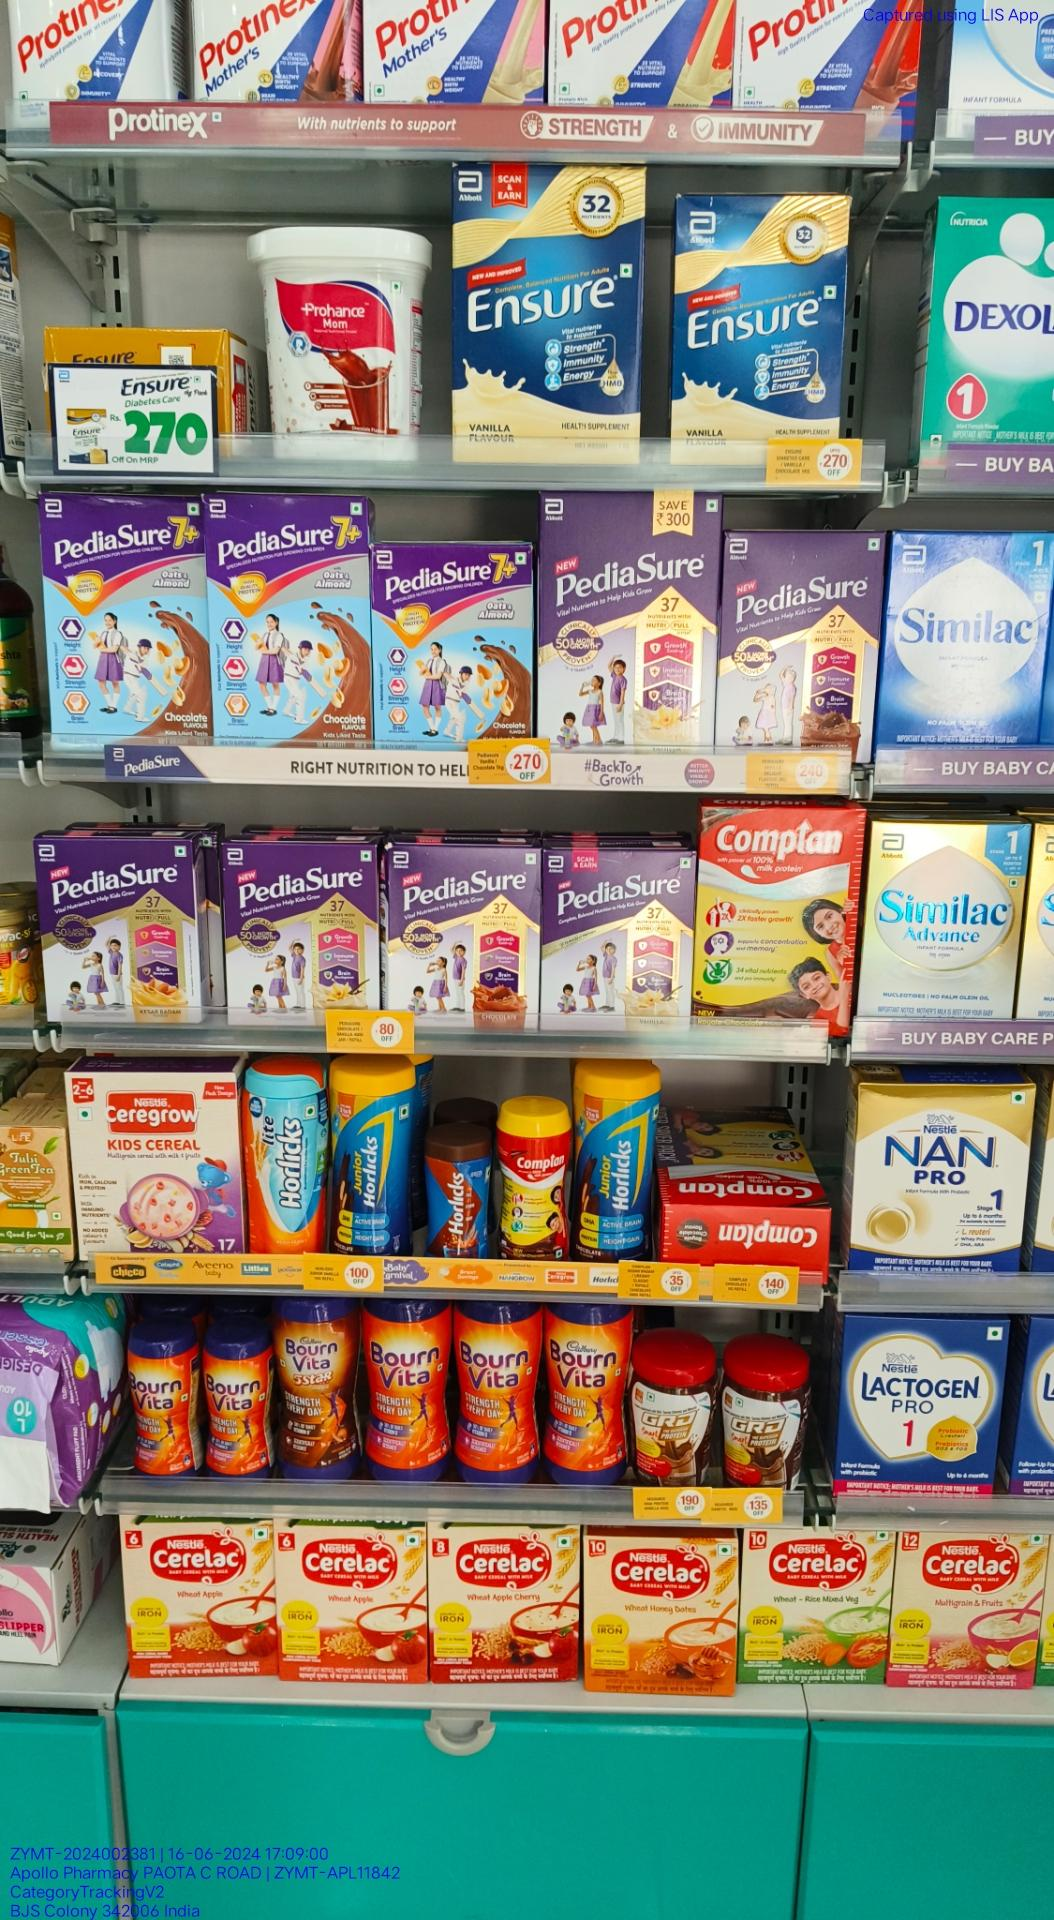BOURN_VITA_200_G_JAR: (131, 1340, 199, 1475), (202, 1341, 269, 1478)
BOURN_VITA_500_G_JAR: (460, 1305, 545, 1484), (363, 1308, 448, 1480), (549, 1310, 623, 1482)
BOURN_VITA_FIVE_STAR_MAGIC_500_G_JAR: (278, 1306, 357, 1479)
COMPLAN_CHOCOLATE_200_GMS_JAR: (498, 1113, 566, 1262)
COMPLAN_CHOCOLATE_500_GMS_PACK: (701, 810, 855, 1021)
ENSURE_VANILLA_400_G_PACK: (449, 163, 644, 467), (674, 195, 842, 440)
HORLICKS_LITE_REGULAR_MALT_500_GM_JAR: (249, 1079, 326, 1254)
HORLICK_CHOCOLATE_200_G_JAR: (424, 1144, 489, 1258)
PEDIASURE_7_PLUS_CHOCOLATE_400_G_PACK: (370, 544, 532, 741)
PEDIASURE_CHOCOLATE_500_G_PACK: (537, 490, 713, 742), (719, 532, 874, 754), (389, 848, 541, 1016)
PEDIASURE_VANILLA_500_G_PACK: (35, 841, 201, 1026), (219, 839, 380, 1008), (544, 852, 693, 1022)
